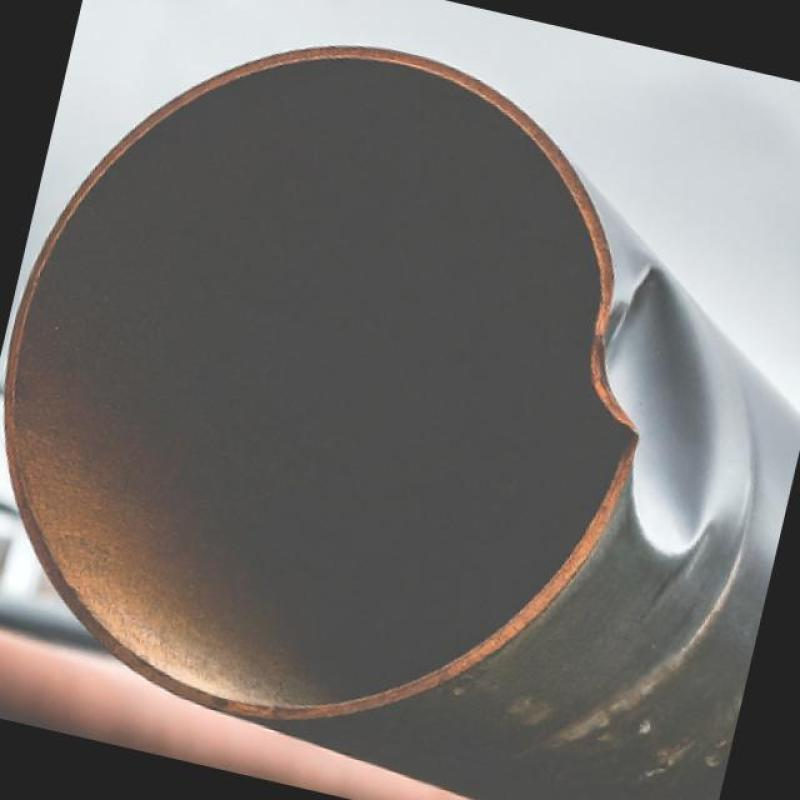Dent: (600, 255, 745, 567)
